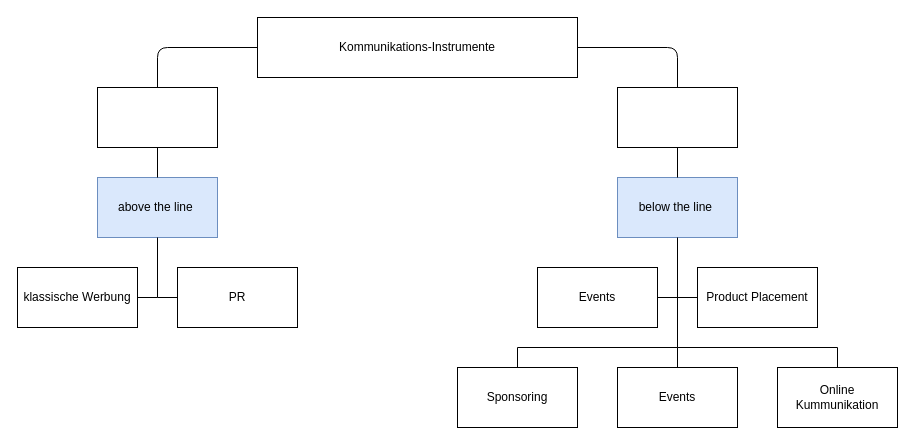
Some shapes in this 915 by 445 pixel diagram are drawn without their labels. Each missing label, with the centre of its shape:
klassische Kommunikationsmittel: (157,117)
nicht-klassische Kommunikationsmittel: (677,117)
